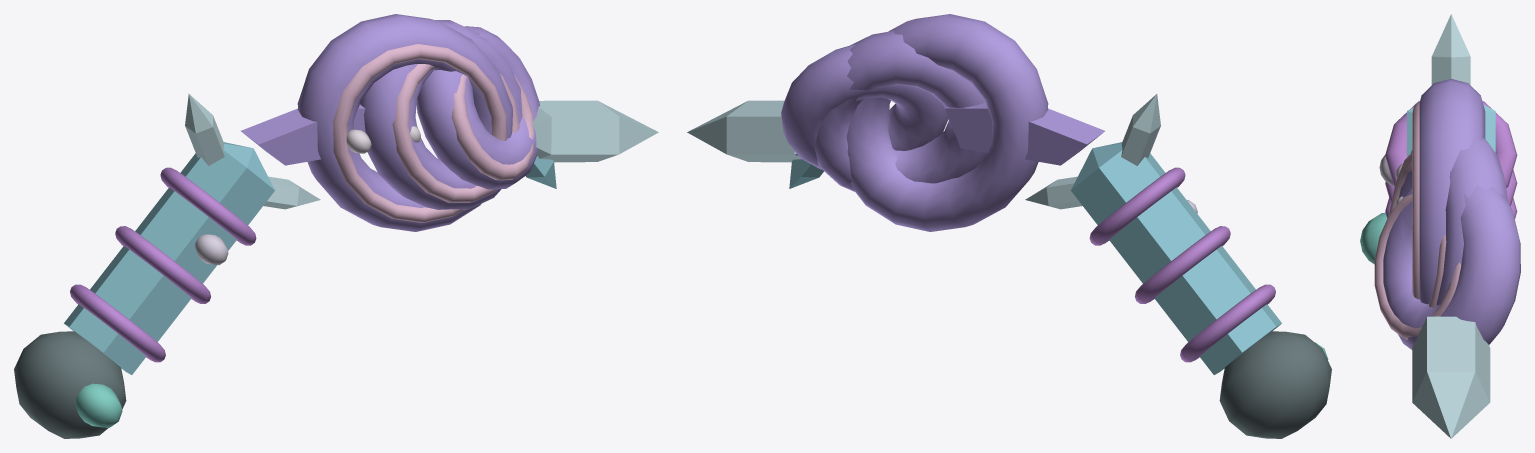
File: glimmerwhip.glb
3 views of the same model, side by side, from view 1: azimuth 30°, elevation 25°; view 2: azimuth 150°, elevation 25°; view 3: azimuth 270°, elevation 25° (orthographic). The views are drawn at different scales.
Visible parts, largest first — view 1: _profile, _glimmer_shard, _sphere, _glimmer_shard.003; view 2: _profile, _glimmer_shard, _sphere, _glimmer_shard.003; view 3: _profile, _glimmer_shard.003, _glimmer_shard, _sphere.
Part boxes in pixels (x1,y1,x2,y2): _profile: (241,14,539,231); _glimmer_shard: (64,94,320,374); _sphere: (14,331,126,438); _glimmer_shard.003: (525,100,658,188); _profile: (781,14,1104,231); _glimmer_shard: (1025,94,1281,374); _sphere: (1219,331,1331,438); _glimmer_shard.003: (687,100,823,188); _profile: (1374,78,1520,349); _glimmer_shard.003: (1412,316,1490,438); _glimmer_shard: (1379,14,1517,218); _sphere: (1360,212,1387,264).
Bounding box in the file's own units: 0.8949 × 0.4544 × 0.1764.
